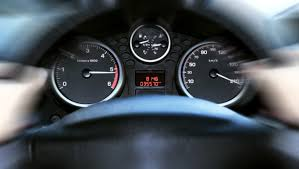Digital_Meter: (133, 69, 167, 88)
